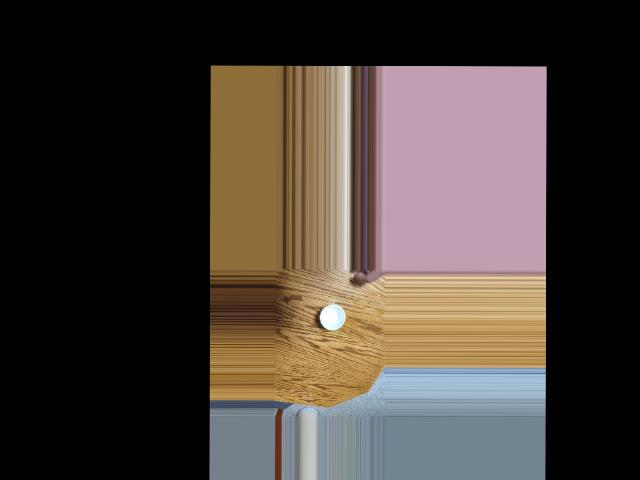cotage: (320, 302, 348, 330)
